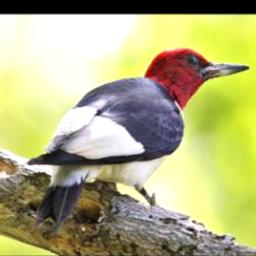Woodpecker: (28, 49, 248, 234)
